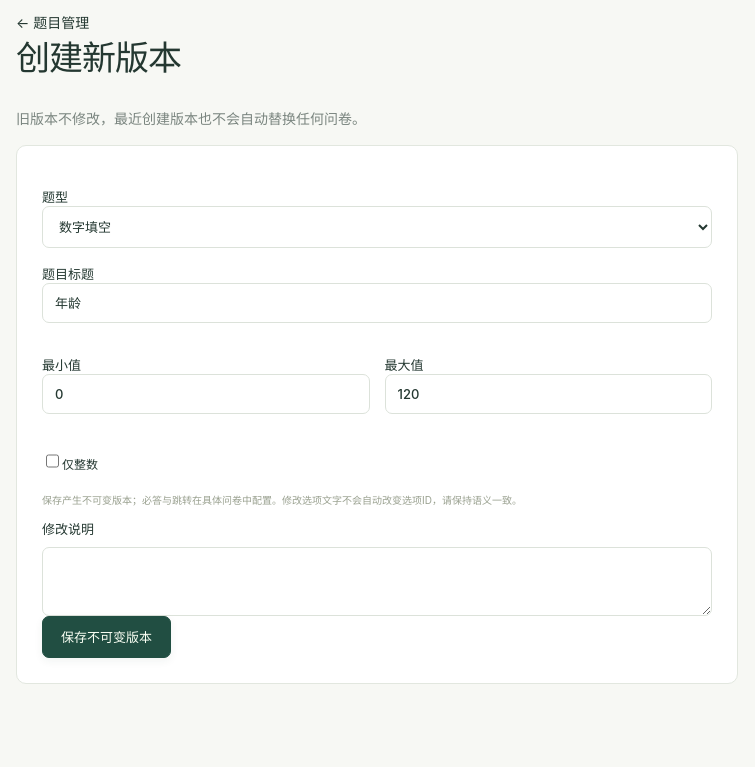
Test: 第二阶段题目与权限交互 › 版本保存冲突保留用户输入并提示
Replace the text in the field labelled "题目标题" with "未保存的新内容" at {"x": 377, "y": 303}, box [42,283,712,323]
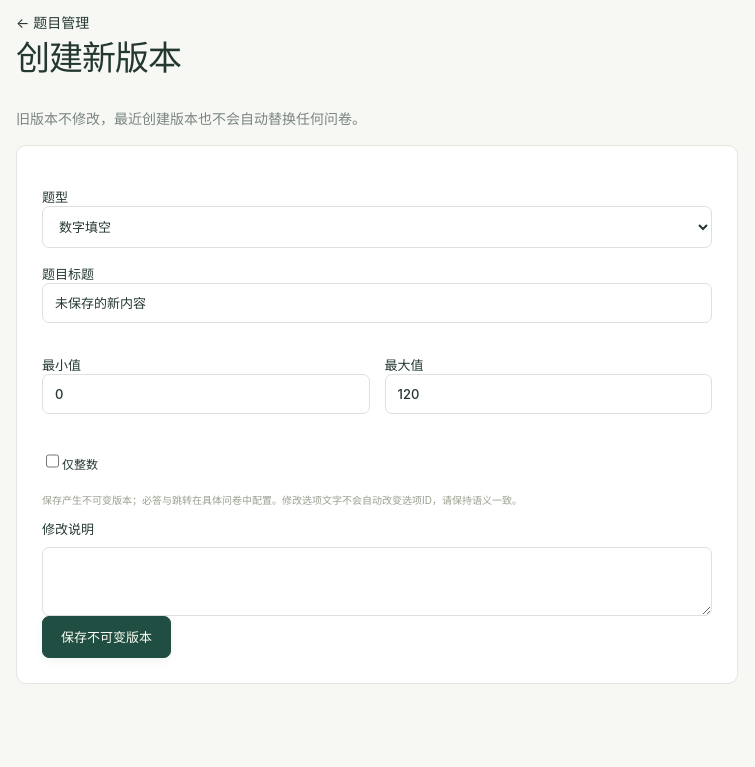
Submit the form
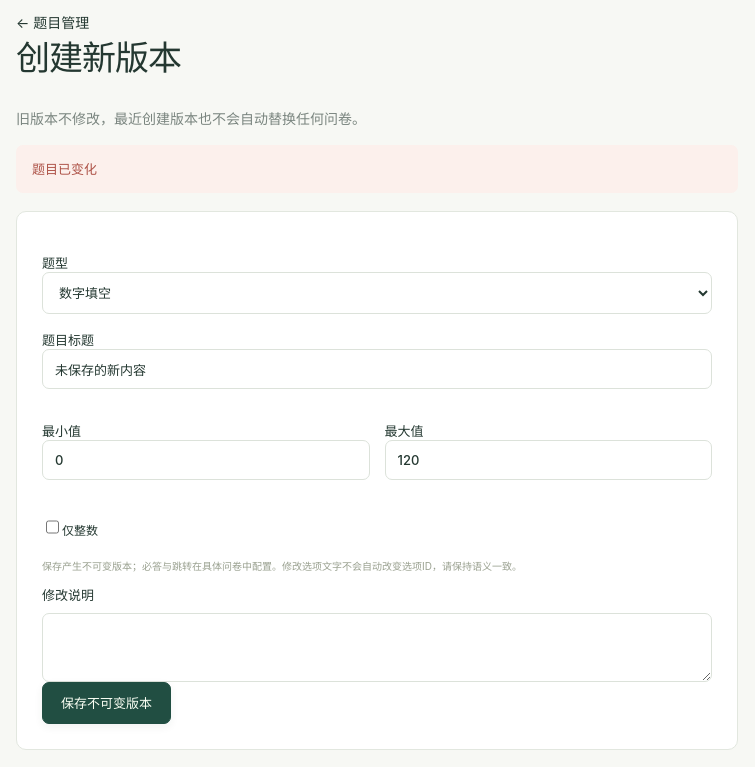
Now the text "题目已变化" is shown, box [16,145,738,193]
